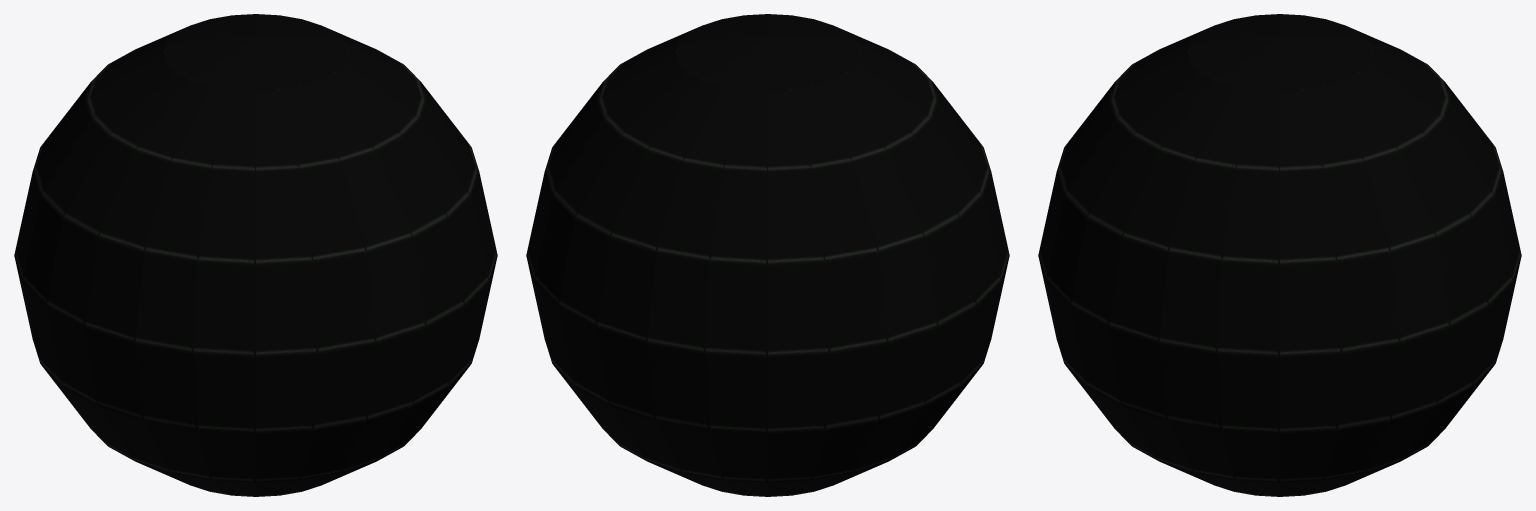
The model's file is worldframe.glb.
3 views of the same model, side by side, from view 1: azimuth 30°, elevation 25°; view 2: azimuth 150°, elevation 25°; view 3: azimuth 270°, elevation 25° (orthographic).
Parts seen in each view (by area): view 1: Sphere; view 2: Sphere; view 3: Sphere.
Part boxes in pixels (x1=…): Sphere: x1=14, y1=14, x2=497, y2=496; Sphere: x1=526, y1=14, x2=1009, y2=496; Sphere: x1=1038, y1=14, x2=1521, y2=496.
Size of the model in its own units: 2 by 2 by 2.
Materials: 1 (1 with a texture image).
